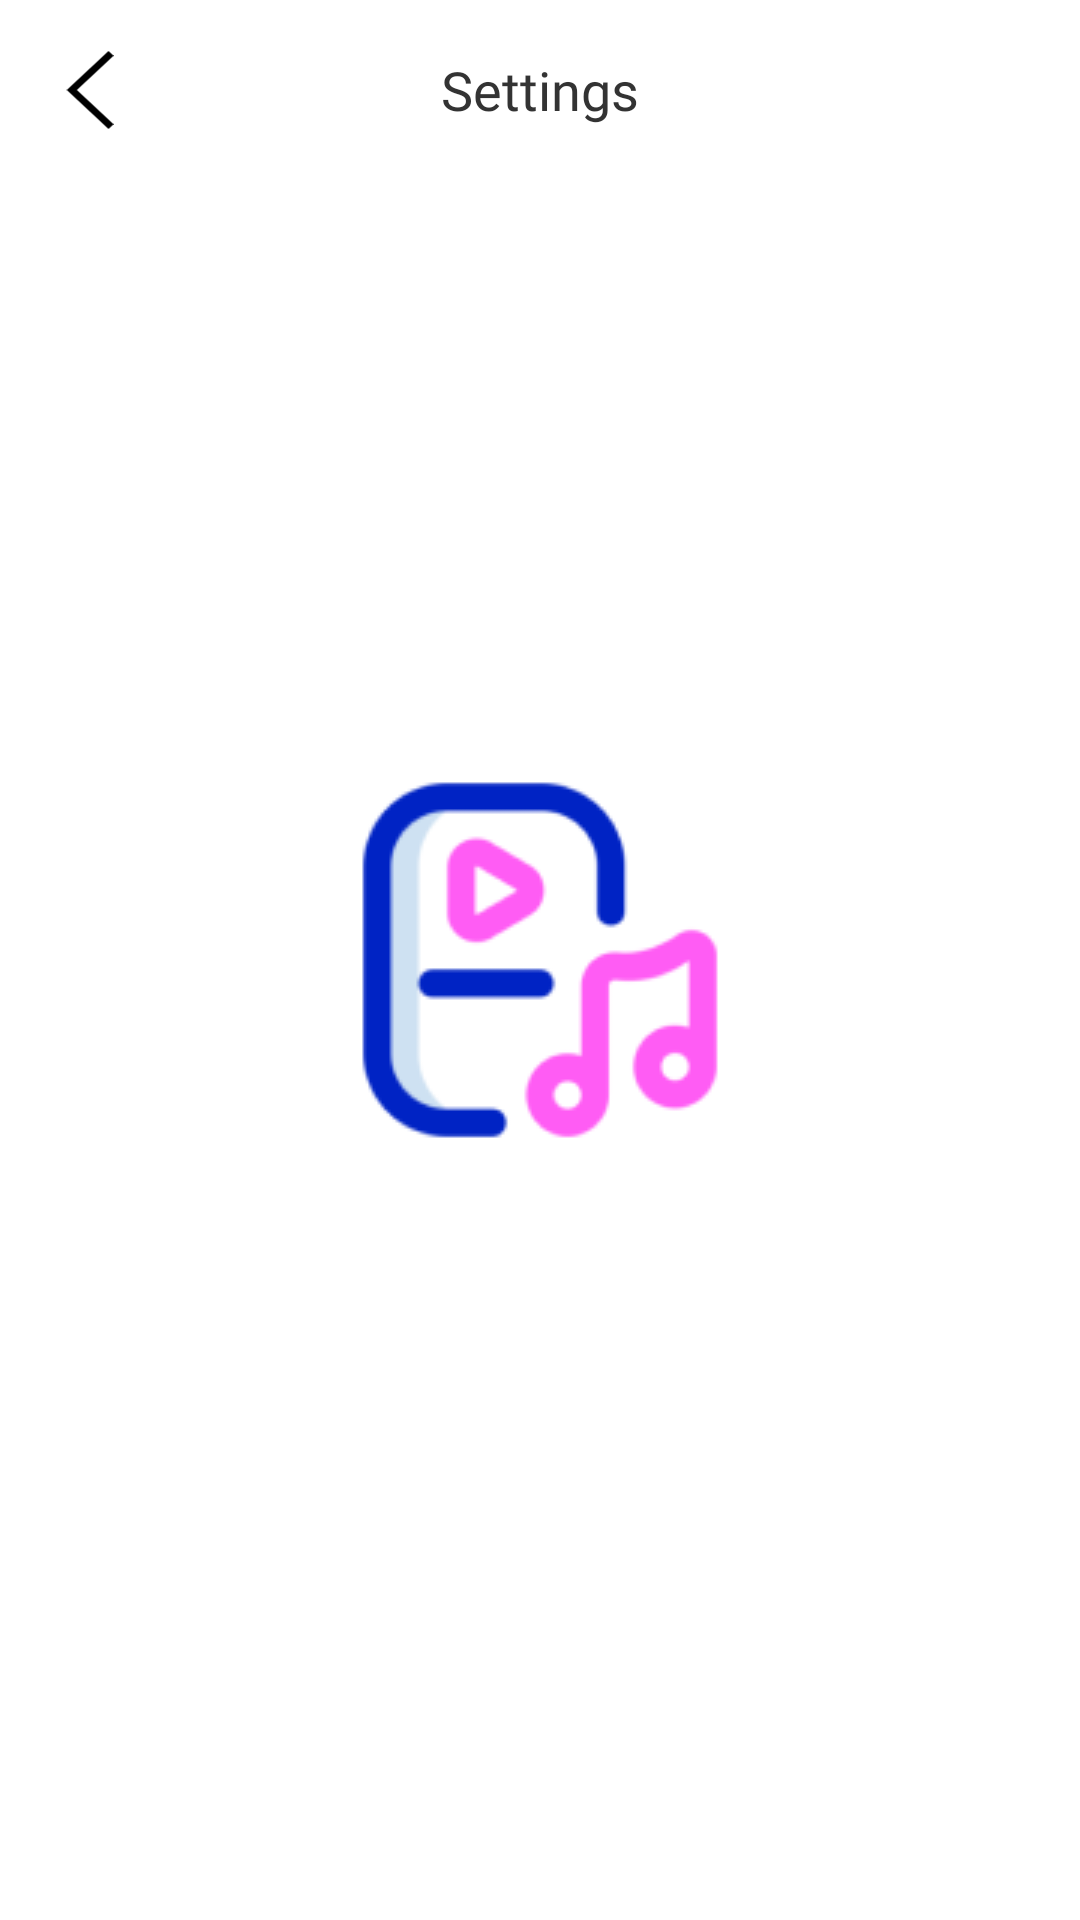

Icon click points for this 1080*1920 phone screenshot, format (x=x, y=y):
Go back: (x=90, y=90)
